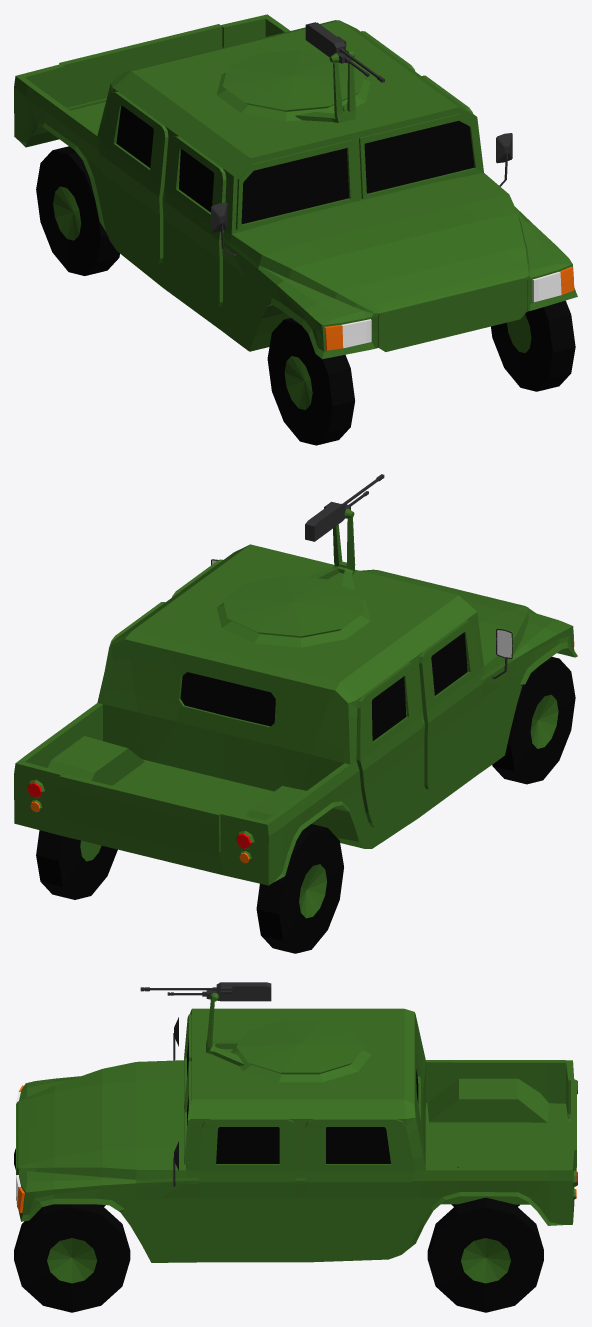
3 views of the same model, one above another, from view 1: azimuth 30°, elevation 25°; view 2: azimuth 150°, elevation 25°; view 3: azimuth 270°, elevation 25° (orthographic). The views are drawn at different scales.
Visible parts, largest first — view 1: Plane.036, Plane.037, Plane.044, Cylinder.018, Cylinder.017, Plane.040, Cylinder.016, Plane.039, Cube.009, Cube.008; view 2: Plane.036, Plane.037, Plane.044, Cylinder.017, Plane.039, Plane.040, Cylinder.018, Cylinder.019, Cube.009, Cube.008; view 3: Plane.036, Plane.043, Plane.042, Cylinder.019, Cylinder.016, Plane.040, Cube.008, Cube.009, Plane.039.
Part boxes in pixels (x1,y1,x2,y2): Plane.036: (14,14,577,358); Plane.037: (99,91,168,263); Plane.044: (164,136,226,307); Cylinder.018: (267,318,354,445); Cylinder.017: (36,146,119,275); Plane.040: (222,49,364,111); Cylinder.016: (491,300,575,391); Plane.039: (59,24,222,107); Cube.009: (295,50,355,122); Cube.008: (305,22,384,82); Plane.036: (14,544,577,885); Plane.037: (356,662,422,827); Plane.044: (419,620,482,789); Cylinder.017: (256,824,343,953); Plane.039: (59,774,221,856); Plane.040: (222,575,364,637); Cylinder.018: (492,657,575,784); Cylinder.019: (36,830,117,899); Cube.009: (305,508,355,590); Cube.008: (305,474,384,541); Plane.036: (16,1008,577,1262); Plane.043: (305,1119,414,1243); Plane.042: (199,1119,295,1243); Cylinder.019: (427,1197,543,1312); Cylinder.016: (14,1204,130,1312); Plane.040: (236,1020,364,1074); Cube.008: (140,982,271,1001); Cube.009: (206,993,243,1065); Plane.039: (571,1080,576,1186).
Bounding box in the file's own units: 241 × 236 × 437.
